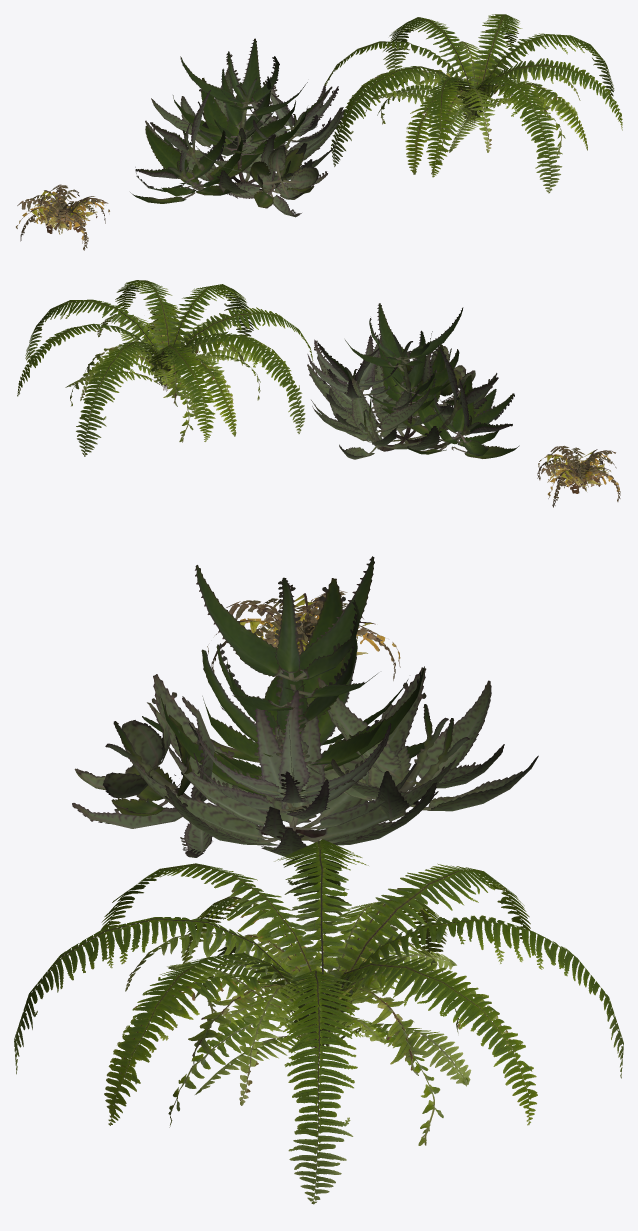
Rendered from allPlants_edit_for_FBX.fbx.
3 renders of one model, top to bottom at view 1: azimuth 30°, elevation 25°; view 2: azimuth 150°, elevation 25°; view 3: azimuth 270°, elevation 25°, orthographic. The views are drawn at different scales.
Visible parts, largest first — view 1: plants02, plants03, plants01; view 2: plants02, plants03, plants01; view 3: plants02, plants03, plants01.
Part boxes in pixels (left/top/right/bottom): plants02: left=324, top=14, right=622, bottom=193; plants03: left=130, top=38, right=344, bottom=217; plants01: left=16, top=184, right=109, bottom=250; plants02: left=17, top=280, right=313, bottom=456; plants03: left=307, top=303, right=519, bottom=459; plants01: left=537, top=445, right=620, bottom=507; plants02: left=14, top=839, right=623, bottom=1204; plants03: left=72, top=556, right=538, bottom=858; plants01: left=207, top=590, right=400, bottom=680.
Bounding box in the file's own units: 22649 × 5822 × 10449.
